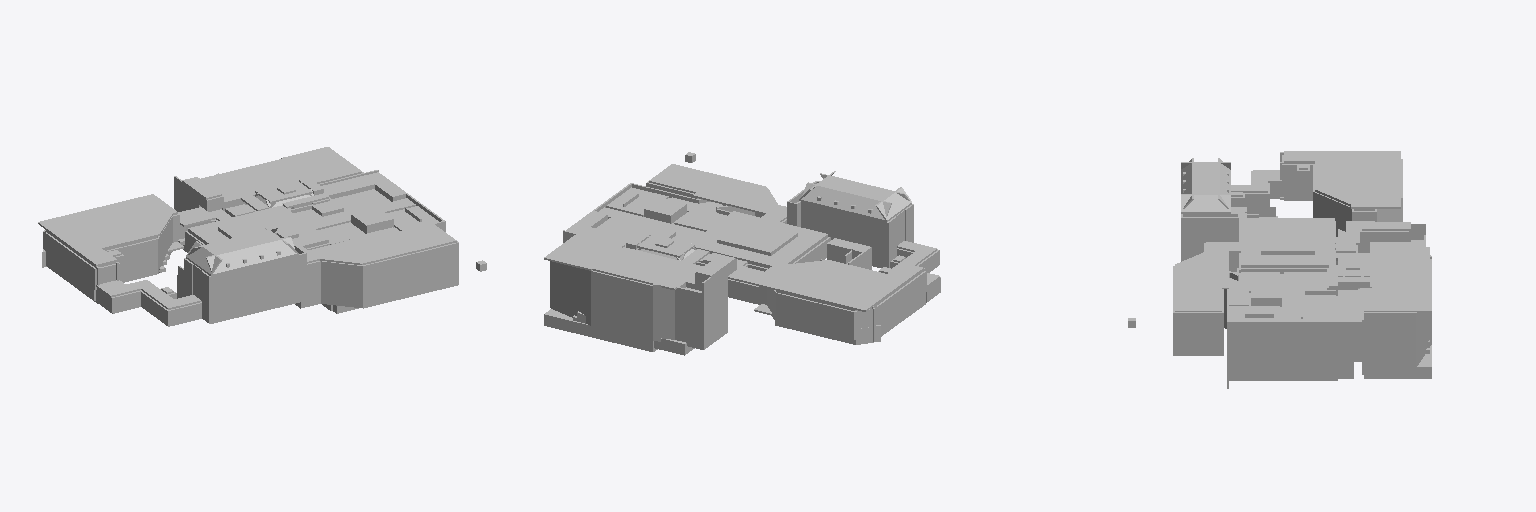
3 views of the same model, side by side, from view 1: azimuth 30°, elevation 25°; view 2: azimuth 150°, elevation 25°; view 3: azimuth 270°, elevation 25° (orthographic).
Parts seen in each view (by area): view 1: entity0_brush399, entity0_brush272, entity0_brush524, entity0_brush266, entity0_brush313, entity0_brush430, entity0_brush267, entity0_brush579, entity0_brush301, entity0_brush394, entity0_brush300, entity0_brush62 (+10 smaller); view 2: entity0_brush399, entity0_brush265, entity0_brush266, entity0_brush388, entity0_brush262, entity0_brush648, entity0_brush62, entity0_brush430, entity0_brush267, entity0_brush531, entity0_brush646, entity0_brush580 (+14 smaller); view 3: entity0_brush399, entity0_brush134, entity0_brush261, entity0_brush151, entity0_brush266, entity0_brush271, entity0_brush530, entity0_brush152, entity0_brush267, entity0_brush62, entity0_brush301, entity0_brush300 (+13 smaller).
Boxes of the visible parts, x1,y1,x2,y2 form: entity0_brush399: [38, 194, 174, 254]; entity0_brush272: [362, 242, 458, 308]; entity0_brush524: [221, 253, 304, 320]; entity0_brush266: [201, 159, 307, 199]; entity0_brush313: [321, 261, 362, 307]; entity0_brush430: [43, 231, 95, 300]; entity0_brush267: [281, 147, 361, 183]; entity0_brush579: [206, 237, 296, 273]; entity0_brush301: [336, 232, 409, 264]; entity0_brush394: [106, 238, 157, 282]; entity0_brush300: [387, 224, 456, 253]; entity0_brush62: [218, 214, 298, 238]; entity0_brush399: [750, 260, 907, 311]; entity0_brush265: [591, 270, 652, 340]; entity0_brush266: [592, 247, 702, 289]; entity0_brush388: [776, 293, 853, 339]; entity0_brush262: [550, 261, 590, 325]; entity0_brush648: [702, 266, 727, 349]; entity0_brush62: [717, 220, 797, 255]; entity0_brush430: [873, 271, 925, 341]; entity0_brush267: [544, 233, 624, 270]; entity0_brush531: [847, 213, 889, 267]; entity0_brush646: [675, 286, 701, 349]; entity0_brush580: [801, 182, 891, 219]; entity0_brush399: [1315, 151, 1400, 208]; entity0_brush134: [1229, 321, 1302, 361]; entity0_brush261: [1364, 312, 1415, 367]; entity0_brush151: [1303, 321, 1361, 361]; entity0_brush266: [1372, 247, 1429, 287]; entity0_brush271: [1175, 312, 1223, 355]; entity0_brush530: [1181, 217, 1238, 261]; entity0_brush152: [1229, 362, 1353, 378]; entity0_brush267: [1364, 288, 1431, 311]; entity0_brush62: [1261, 225, 1314, 254]; entity0_brush301: [1175, 265, 1228, 288]; entity0_brush300: [1175, 288, 1221, 311].
Size of the model in its own units: 3100 by 960 by 2496.